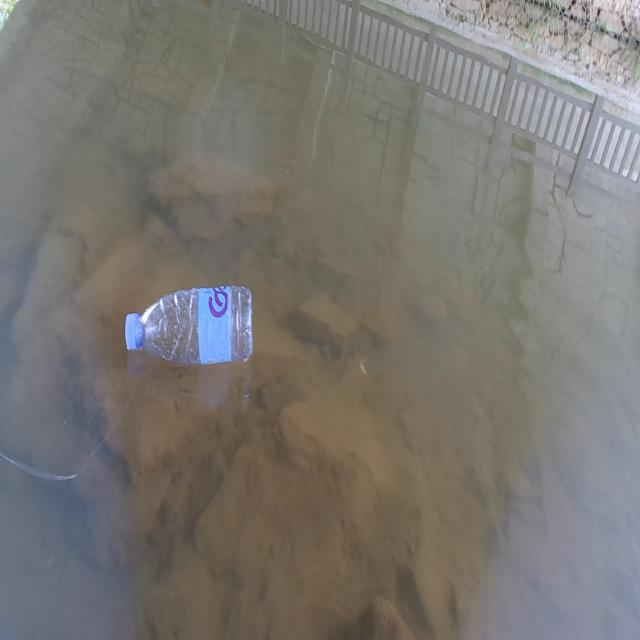garbage: (124, 283, 254, 367)
